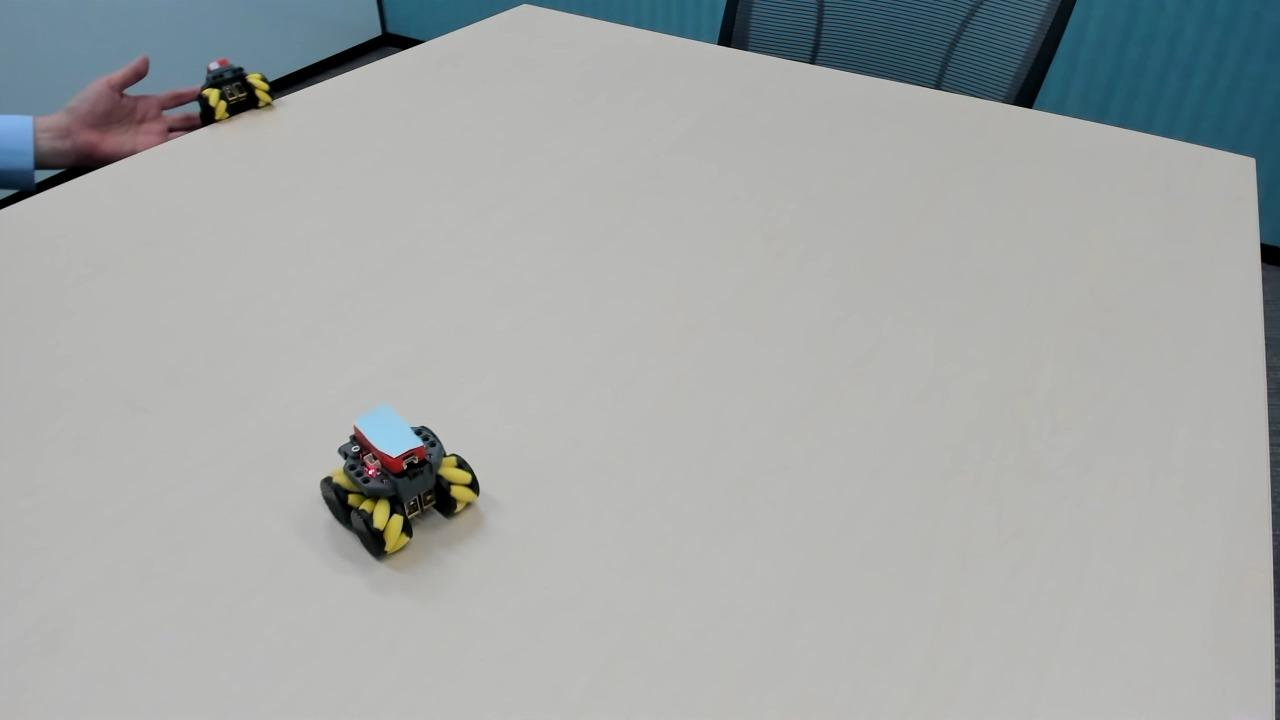B-Robot: (315, 390, 495, 579)
R-Robot: (199, 47, 288, 138)
